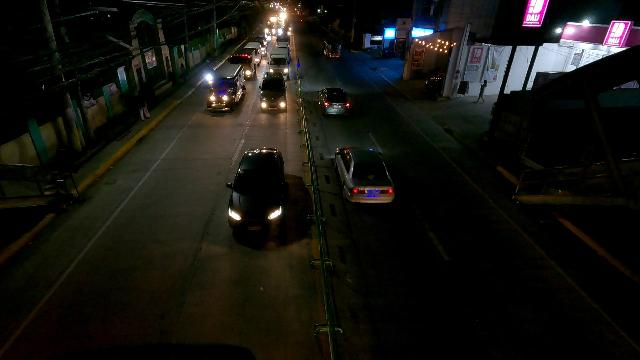car: (222, 147, 286, 239), (333, 147, 395, 205), (260, 72, 289, 114), (317, 86, 352, 116)
jeepney: (204, 64, 245, 112), (229, 49, 255, 79), (322, 39, 343, 60)
van: (268, 48, 289, 78)
